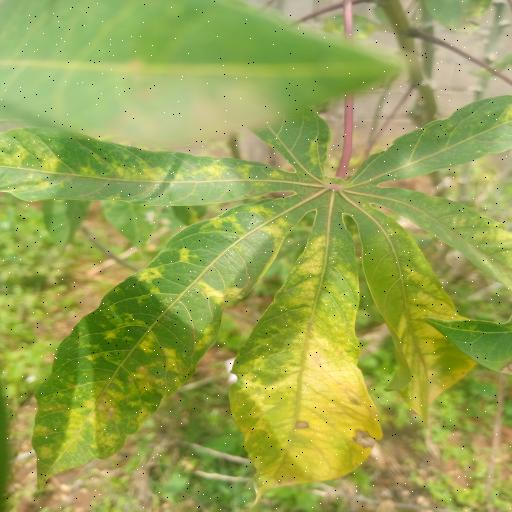Cassava_Mosaic: (0, 84, 512, 491)
